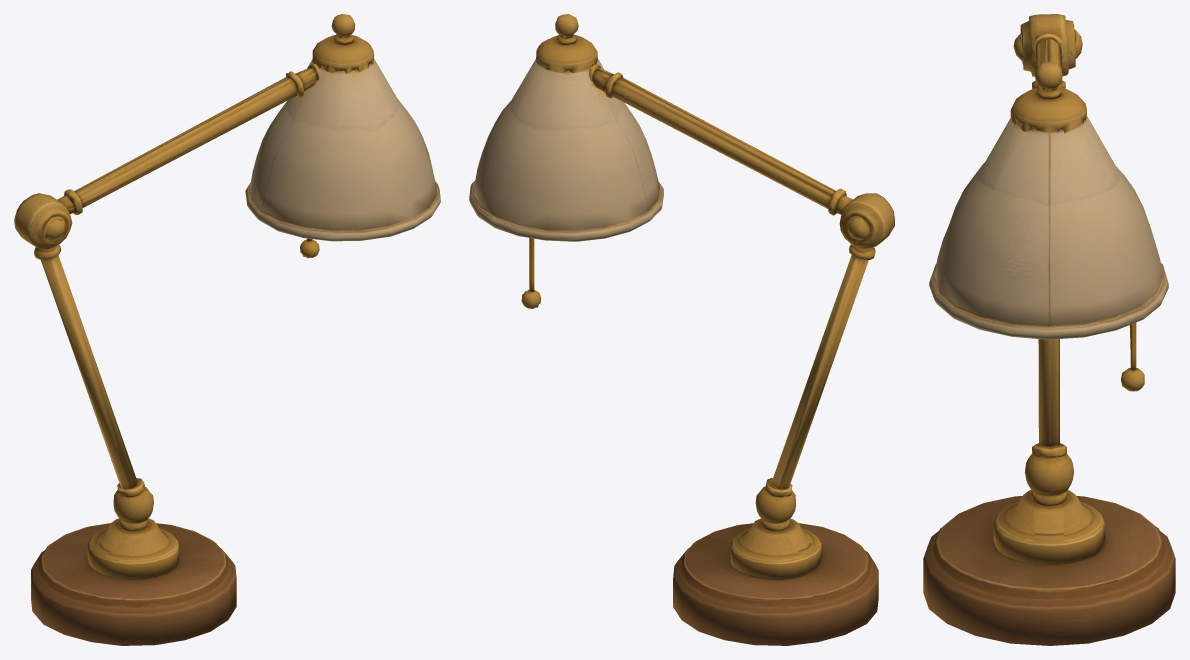
The model's file is lamp-lod0.glb.
3 views of the same model, side by side, from view 1: azimuth 30°, elevation 25°; view 2: azimuth 150°, elevation 25°; view 3: azimuth 270°, elevation 25° (orthographic). The views are drawn at different scales.
Parts seen in each view (by area): view 1: tripo_part_1, tripo_part_2, tripo_part_5, tripo_part_17, tripo_part_9, tripo_part_0, tripo_part_3, tripo_part_7; view 2: tripo_part_1, tripo_part_2, tripo_part_5, tripo_part_17, tripo_part_9, tripo_part_0, tripo_part_3, tripo_part_7; view 3: tripo_part_1, tripo_part_2, tripo_part_9, tripo_part_3, tripo_part_17, tripo_part_0, tripo_part_7, tripo_part_5, tripo_part_8, tripo_part_6, tripo_part_12.
Part boxes in pixels (box(x1,y1,x2,y2)): tripo_part_1: box(245, 58, 440, 241); tripo_part_2: box(31, 523, 236, 645); tripo_part_5: box(57, 77, 297, 214); tripo_part_17: box(41, 255, 137, 488); tripo_part_9: box(87, 518, 178, 579); tripo_part_0: box(14, 193, 72, 249); tripo_part_3: box(312, 35, 374, 73); tripo_part_7: box(113, 487, 153, 523); tripo_part_1: box(469, 58, 663, 241); tripo_part_2: box(673, 523, 878, 645); tripo_part_5: box(612, 77, 852, 215); tripo_part_17: box(771, 255, 868, 488); tripo_part_9: box(730, 518, 821, 579); tripo_part_0: box(839, 193, 894, 248); tripo_part_3: box(536, 35, 597, 73); tripo_part_7: box(755, 486, 795, 523); tripo_part_1: box(929, 116, 1168, 339); tripo_part_2: box(923, 496, 1175, 645); tripo_part_9: box(993, 490, 1105, 564); tripo_part_3: box(1010, 87, 1086, 133); tripo_part_17: box(1038, 339, 1059, 446); tripo_part_0: box(1013, 14, 1082, 76); tripo_part_7: box(1025, 453, 1073, 496); tripo_part_5: box(1032, 33, 1065, 87); tripo_part_8: box(1034, 61, 1062, 88); tripo_part_6: box(1121, 368, 1144, 391); tripo_part_12: box(1032, 443, 1066, 457).
Size of the model in its own units: 0.8004 by 1 by 0.3503.
Materials: 24 (24 with a texture image).
